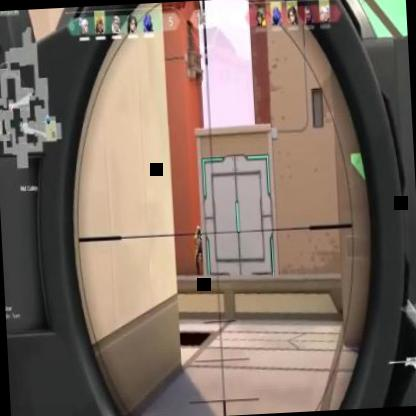enemy: (192, 226, 207, 274)
enemy_head: (196, 226, 202, 235)
